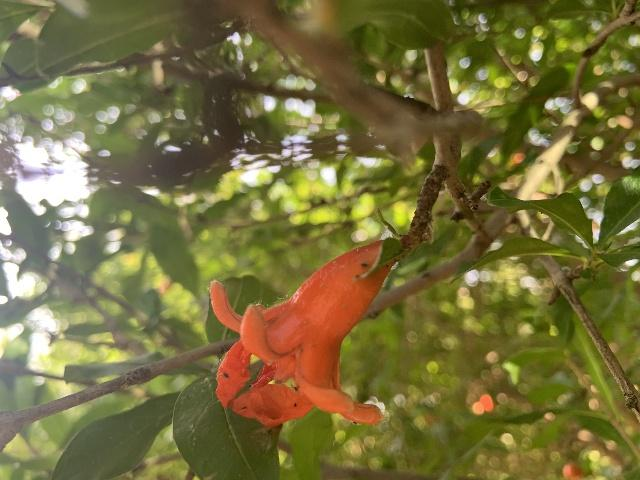flower: (208, 241, 393, 430)
